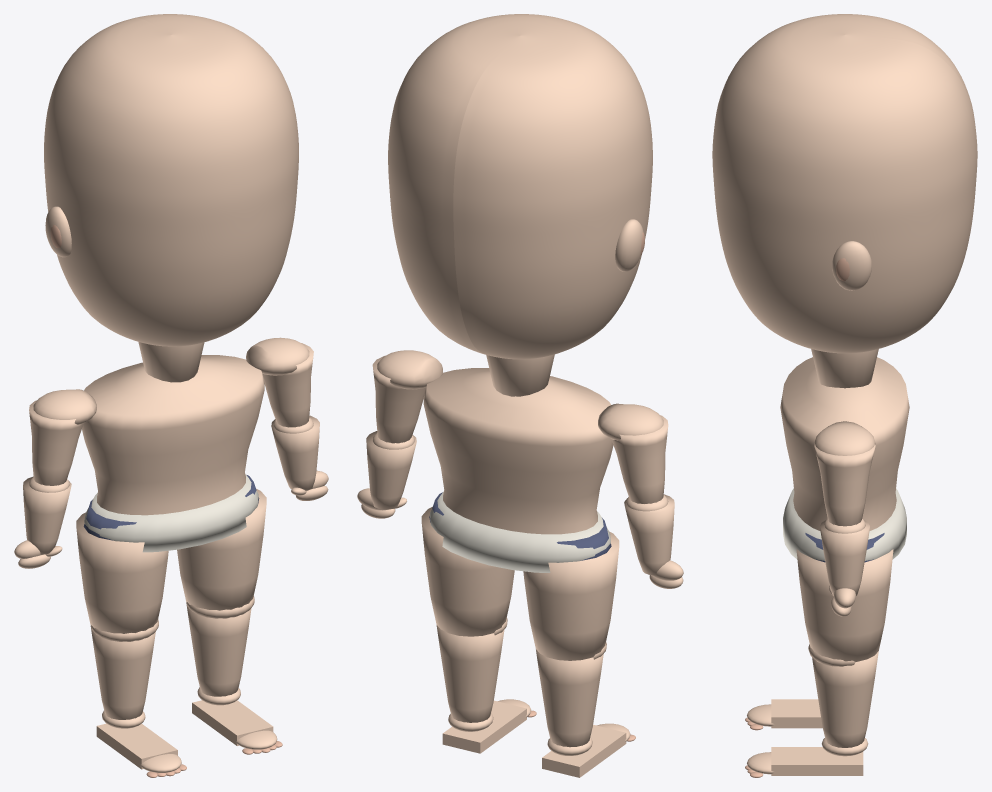
Rendered from body_m.glb.
3 renders of one model, left to right at view 1: azimuth 30°, elevation 25°; view 2: azimuth 150°, elevation 25°; view 3: azimuth 270°, elevation 25°, orthographic. The views are drawn at different scales.
Size of the model in its own units: 0.6741 by 1.43 by 0.4838.
